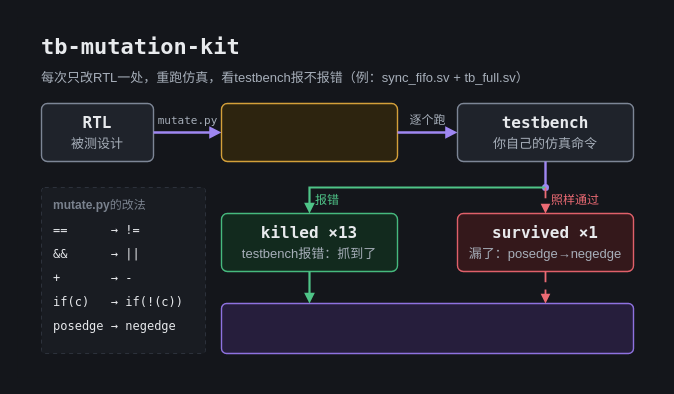
Image size: 674x394. Some labels were removed from this diagram. The shapes that lost their labels are listed below. From the top down, each one's centre as x and y in pixels, then its label:
At pixel 309 132: "14个变异体 每个只改一处".
At pixel 427 328: "93% 13/14被抓到，结果写进report.md".
